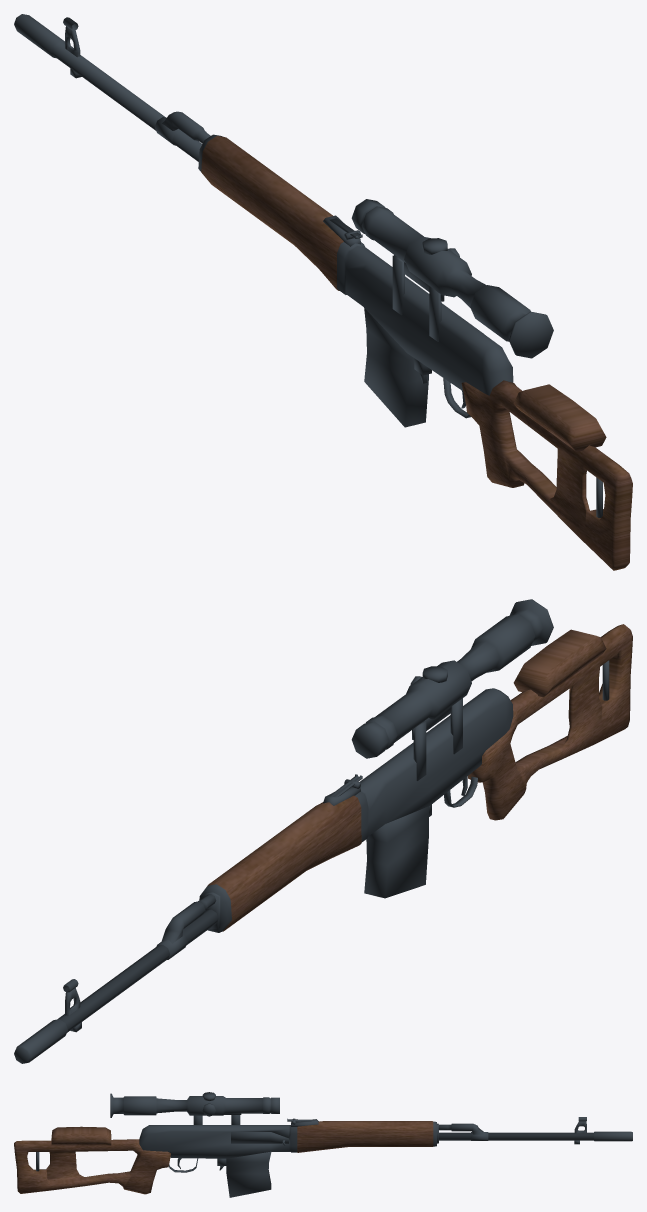
The model's file is tabasco-dragunov.glb.
The picture shows the model from 3 angles, top to bottom: view 1: azimuth 30°, elevation 25°; view 2: azimuth 150°, elevation 25°; view 3: azimuth 270°, elevation 25°; orthographic projection. The views are drawn at different scales.
Visible parts, largest first — view 1: Cube; view 2: Cube; view 3: Cube.
Part boxes in pixels (x1,y1,x2,y2): Cube: (14,14,632,570); Cube: (14,599,632,1063); Cube: (14,1092,632,1197).
Size of the model in its own units: 0.4459 by 1.8 by 9.98.
5 materials, 2 textured.
